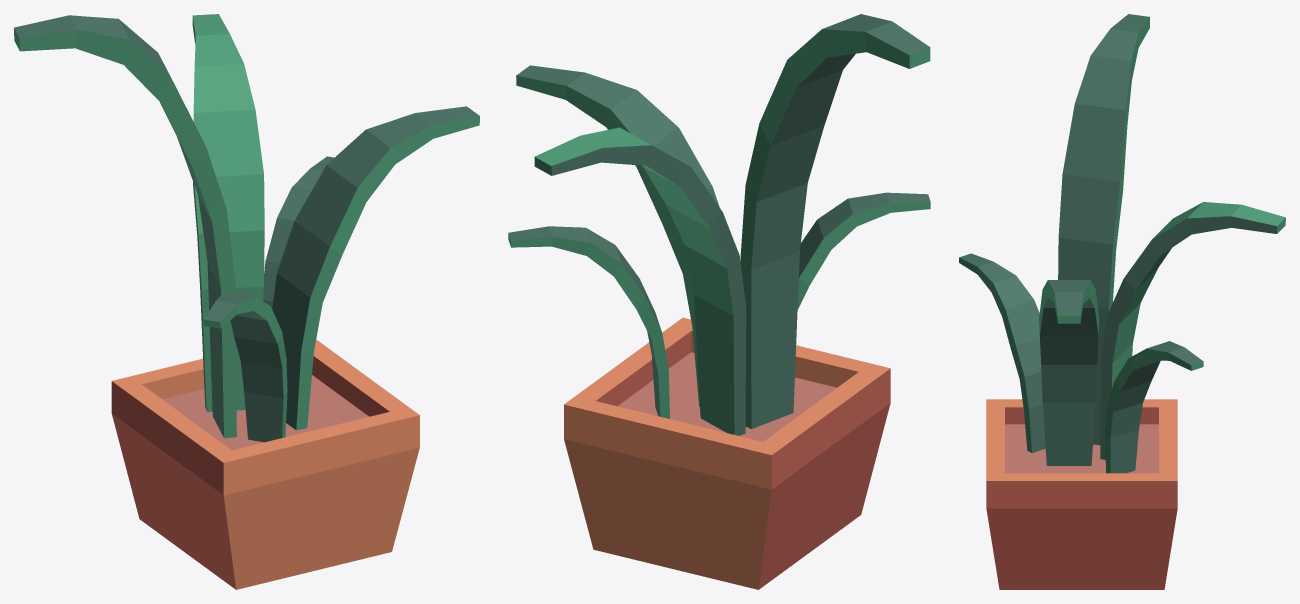
The model's file is Plant 04.fbx.
The picture shows the model from 3 angles, left to right: view 1: azimuth 30°, elevation 25°; view 2: azimuth 150°, elevation 25°; view 3: azimuth 270°, elevation 25°; orthographic projection. The views are drawn at different scales.
Visible parts, largest first — view 1: Plant 04; view 2: Plant 04; view 3: Plant 04.
Part boxes in pixels (left/top/right/bottom): Plant 04: left=14, top=14, right=479, bottom=589; Plant 04: left=508, top=14, right=930, bottom=589; Plant 04: left=959, top=14, right=1285, bottom=589.
Size of the model in its own units: 92.76 by 113 by 73.49.
